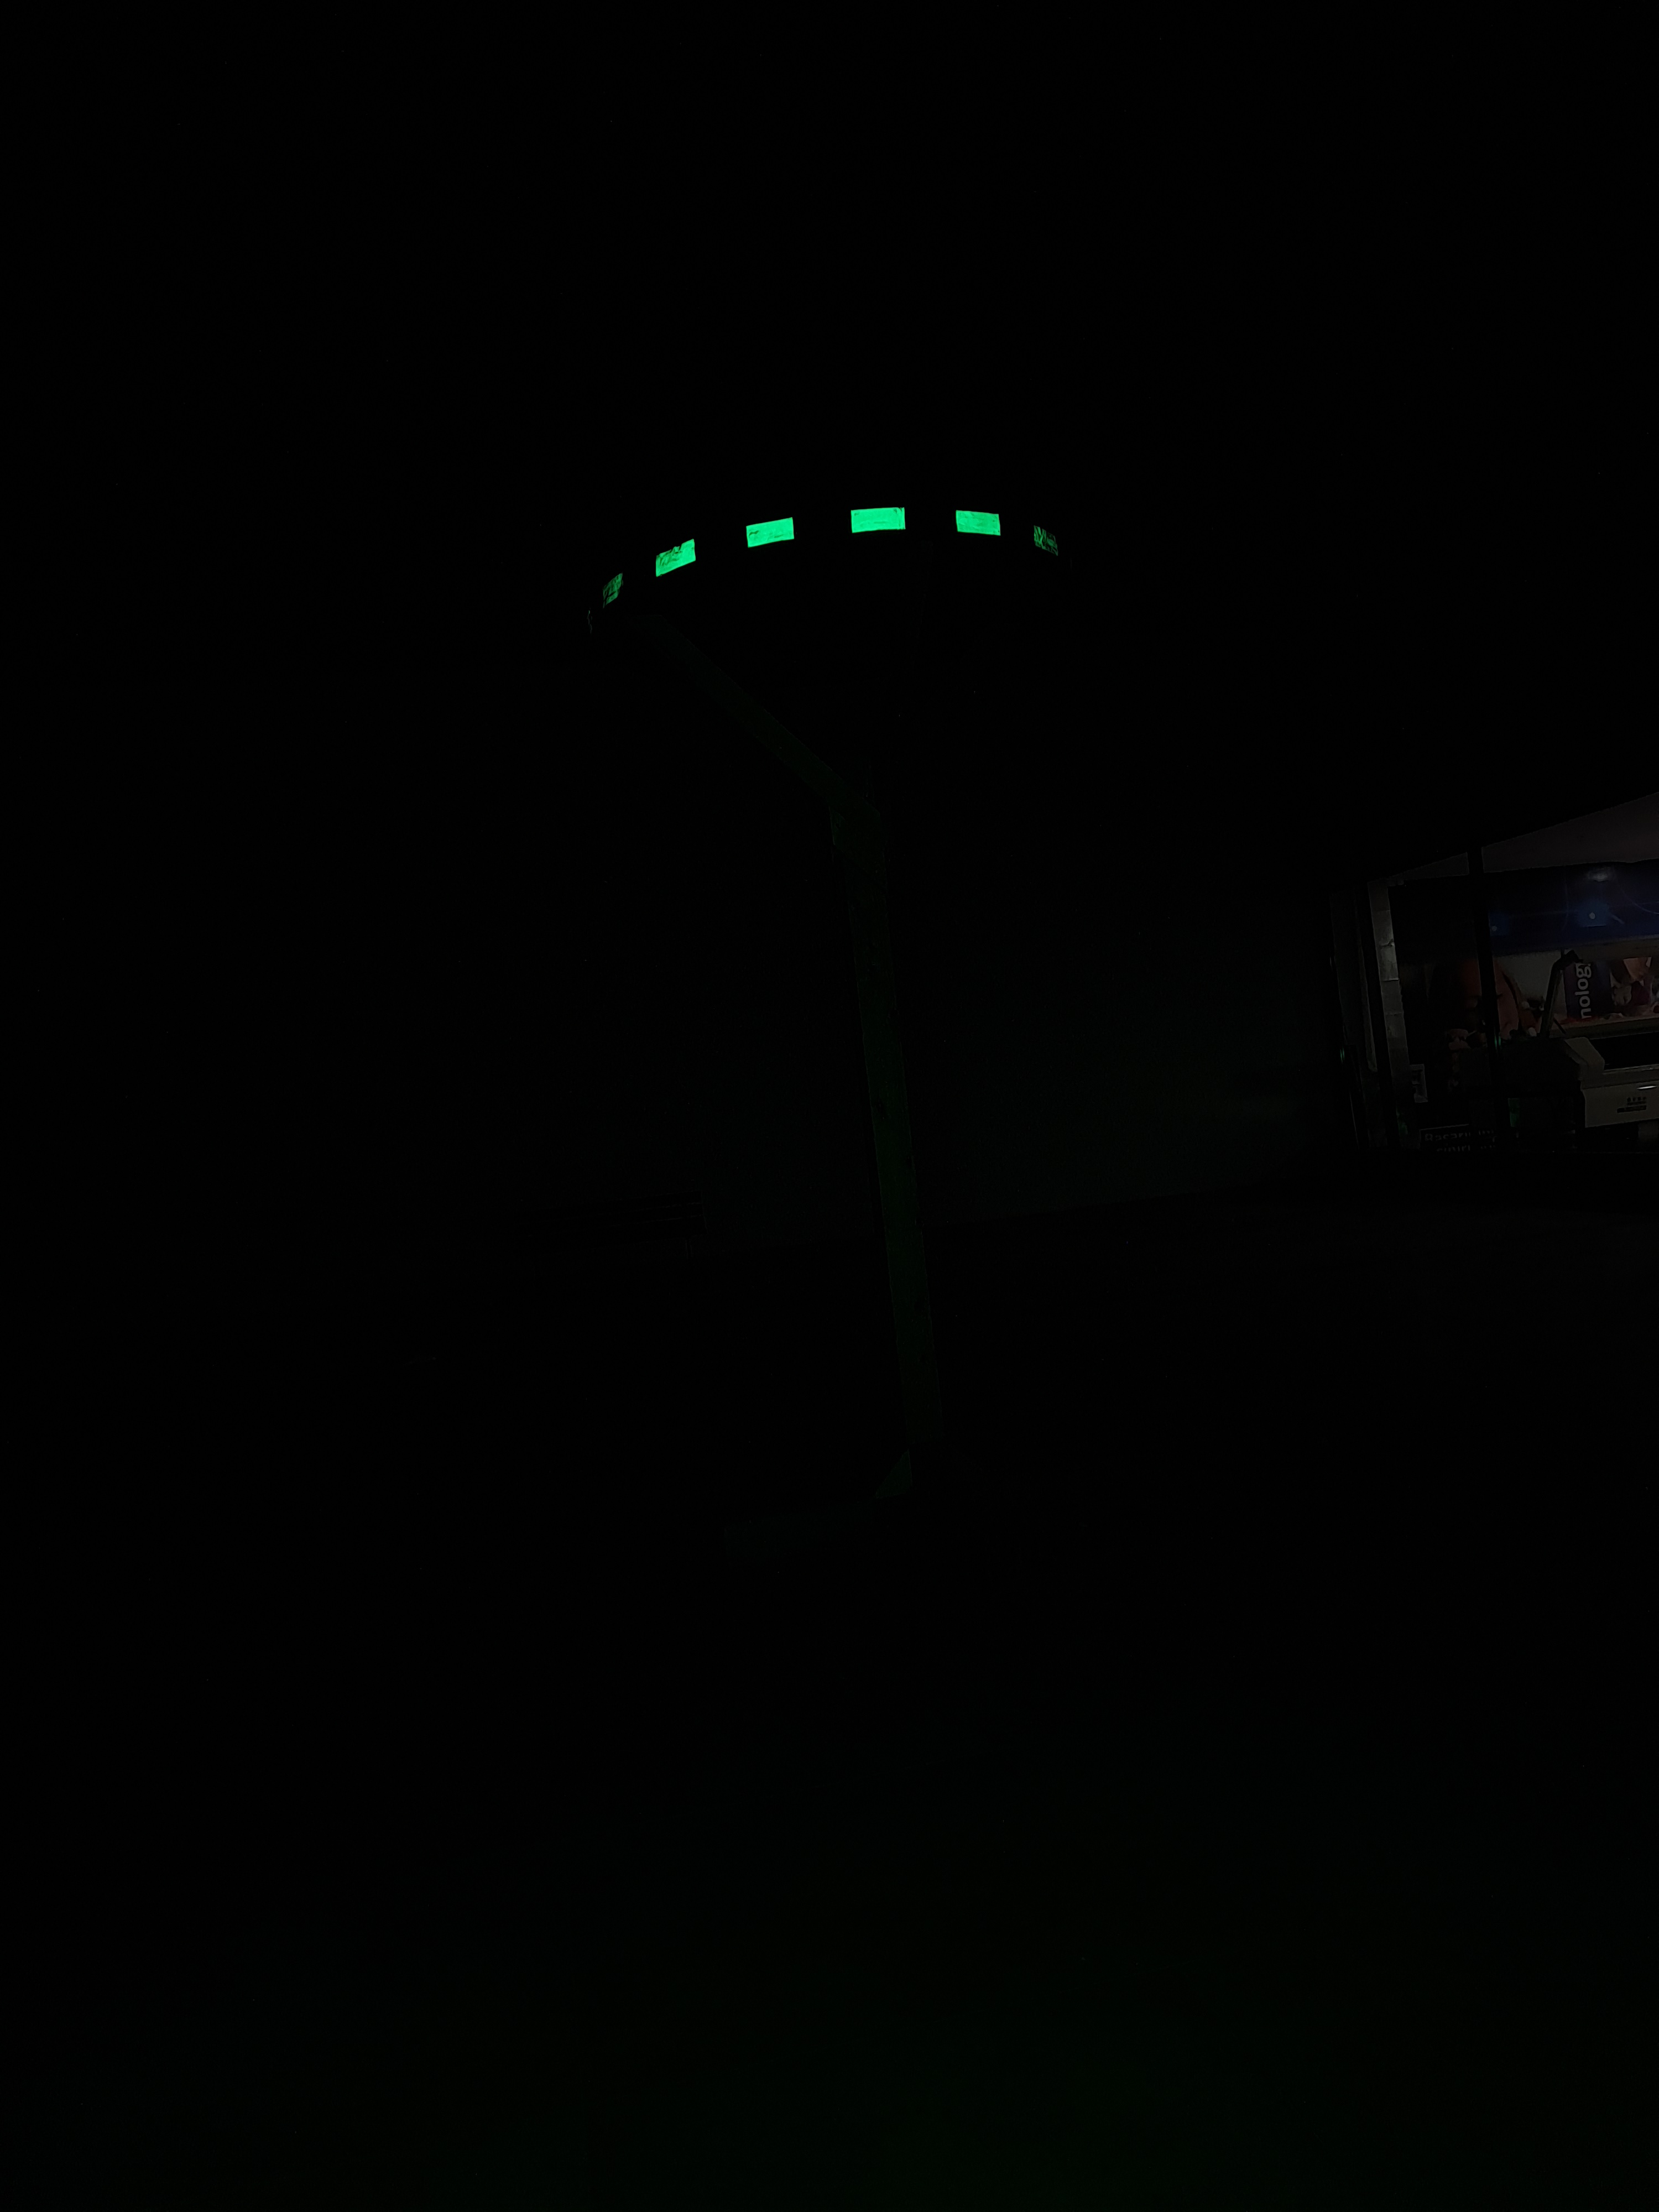hoop: (586, 474, 1094, 634)
